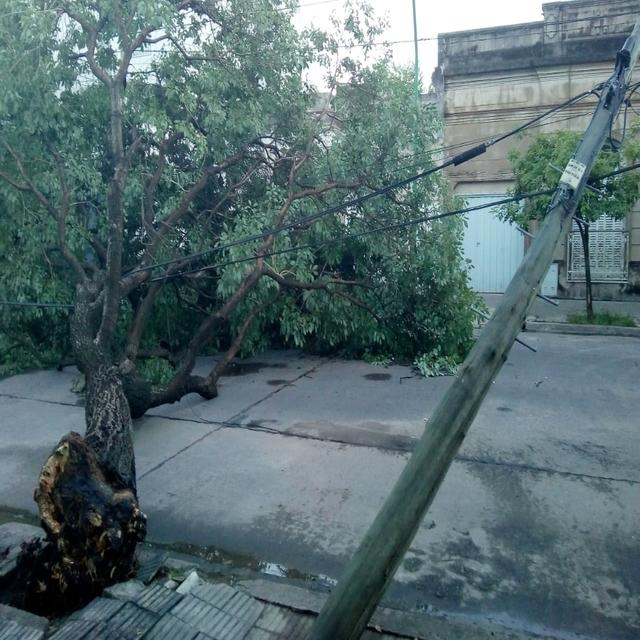Inclined Pole: (300, 17, 637, 640)
